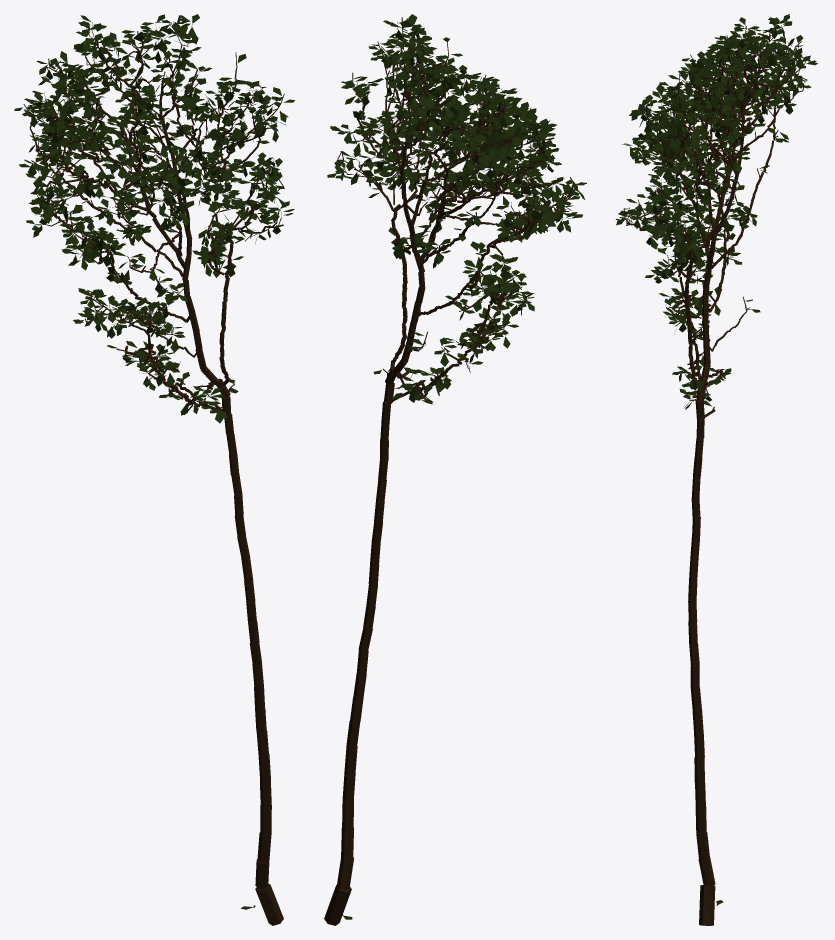
Rendered from tree_73.obj.
The picture shows the model from 3 angles, left to right: view 1: azimuth 30°, elevation 25°; view 2: azimuth 150°, elevation 25°; view 3: azimuth 270°, elevation 25°; orthographic projection. The views are drawn at different scales.
Visible parts, largest first — view 1: Leaves, TrunkAndBranches; view 2: Leaves, TrunkAndBranches; view 3: Leaves, TrunkAndBranches.
Boxes of the visible parts, x1=… form: Leaves: x1=14, y1=14, x2=294, y2=909; TrunkAndBranches: x1=23, y1=21, x2=284, y2=925; Leaves: x1=327, y1=14, x2=586, y2=919; TrunkAndBranches: x1=324, y1=17, x2=577, y2=925; Leaves: x1=615, y1=14, x2=817, y2=904; TrunkAndBranches: x1=622, y1=22, x2=807, y2=925.
Size of the model in its own units: 5.9 by 20.6 by 4.5.
